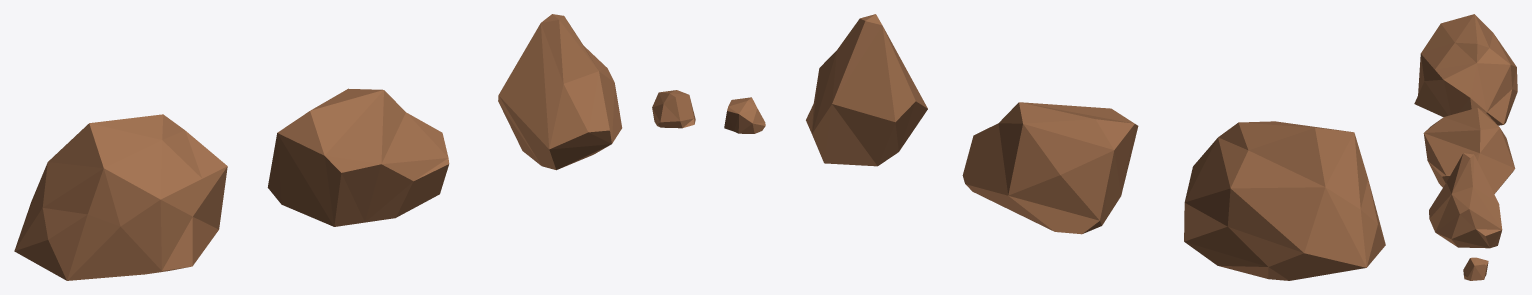
The model's file is rocks.fbx.
The picture shows the model from 3 angles, left to right: view 1: azimuth 30°, elevation 25°; view 2: azimuth 150°, elevation 25°; view 3: azimuth 270°, elevation 25°; orthographic projection. The views are drawn at different scales.
Parts seen in each view (by area): view 1: Sphere.001, Sphere, Sphere.002, Sphere.003; view 2: Sphere.001, Sphere, Sphere.002, Sphere.003; view 3: Sphere.001, Sphere.002, Sphere, Sphere.003.
Part boxes in pixels (x1,y1,x2,y2): Sphere.001: (14,114,227,280); Sphere: (267,88,449,226); Sphere.002: (498,14,622,170); Sphere.003: (652,90,695,128); Sphere.001: (1184,121,1385,280); Sphere: (962,102,1138,234); Sphere.002: (806,14,927,166); Sphere.003: (724,97,765,133); Sphere.001: (1414,14,1517,125); Sphere.002: (1429,152,1502,248); Sphere: (1423,107,1515,193); Sphere.003: (1463,257,1488,280).
Size of the model in its own units: 196 by 39.7 by 42.88.
